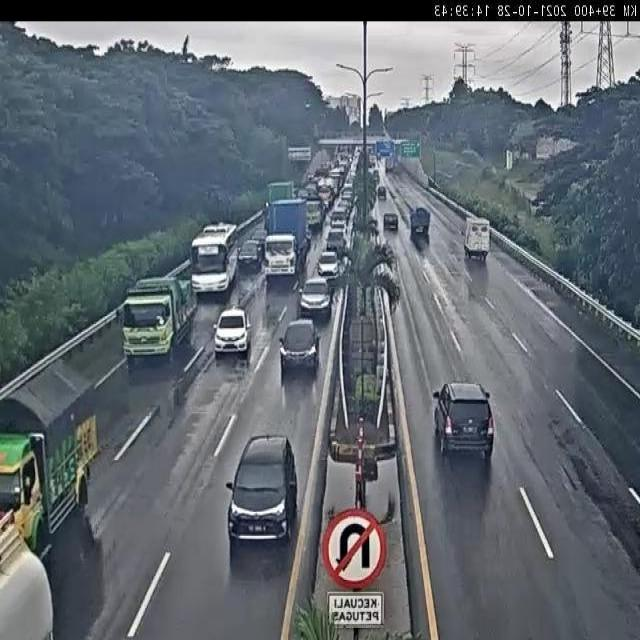Bus: (186, 220, 238, 294)
Car: (221, 431, 306, 558), (432, 380, 496, 460), (278, 318, 321, 378), (213, 305, 253, 356), (298, 275, 332, 322), (237, 237, 264, 271), (316, 250, 340, 280), (326, 227, 345, 256), (330, 210, 346, 229), (383, 212, 398, 232), (378, 185, 387, 200)
Truck: (0, 356, 105, 524), (123, 274, 198, 369), (262, 201, 307, 282), (461, 216, 504, 274), (410, 207, 430, 243)
